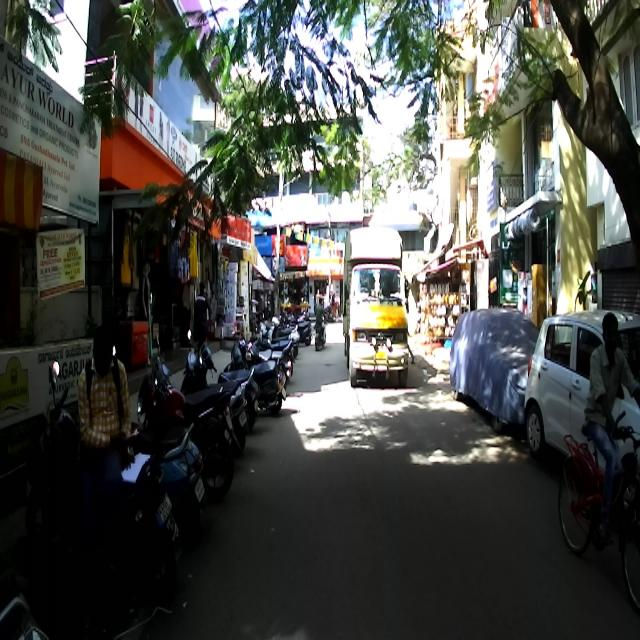car: (523, 308, 639, 480), (449, 307, 539, 430)
motorcycle: (25, 370, 177, 610), (128, 362, 237, 504), (231, 326, 292, 400), (312, 311, 328, 352)
scooter: (108, 343, 206, 536), (180, 329, 250, 452), (198, 332, 260, 430), (0, 537, 52, 638), (223, 330, 286, 412)
truck: (340, 226, 412, 390)
